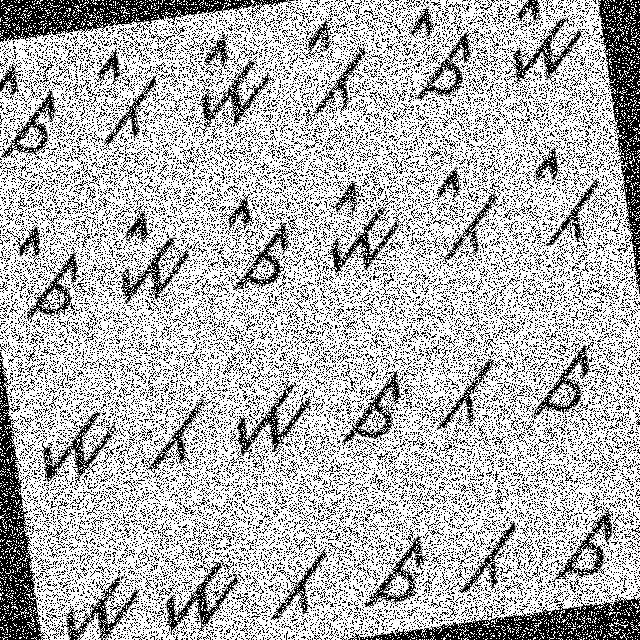ba: (136, 382, 224, 475), (422, 347, 511, 438), (447, 512, 532, 602), (258, 538, 338, 624)
bi: (524, 137, 614, 253), (290, 9, 377, 126), (80, 40, 168, 151), (422, 159, 508, 267)
ca: (517, 335, 610, 430), (542, 499, 633, 594), (347, 524, 436, 615), (334, 362, 415, 452)
ci: (214, 190, 304, 302), (394, 0, 487, 108), (5, 218, 94, 325), (0, 55, 73, 168)
ma: (28, 394, 134, 490), (222, 366, 321, 464), (151, 545, 249, 639), (56, 564, 152, 639)
mi: (100, 198, 200, 310), (316, 172, 409, 282), (186, 26, 282, 130), (496, 0, 591, 89)
